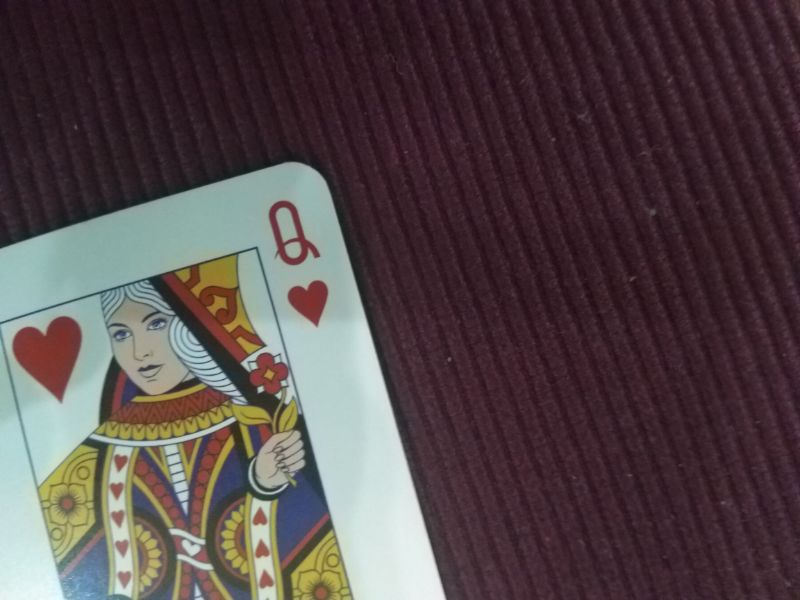Qh: (259, 193, 332, 331)
